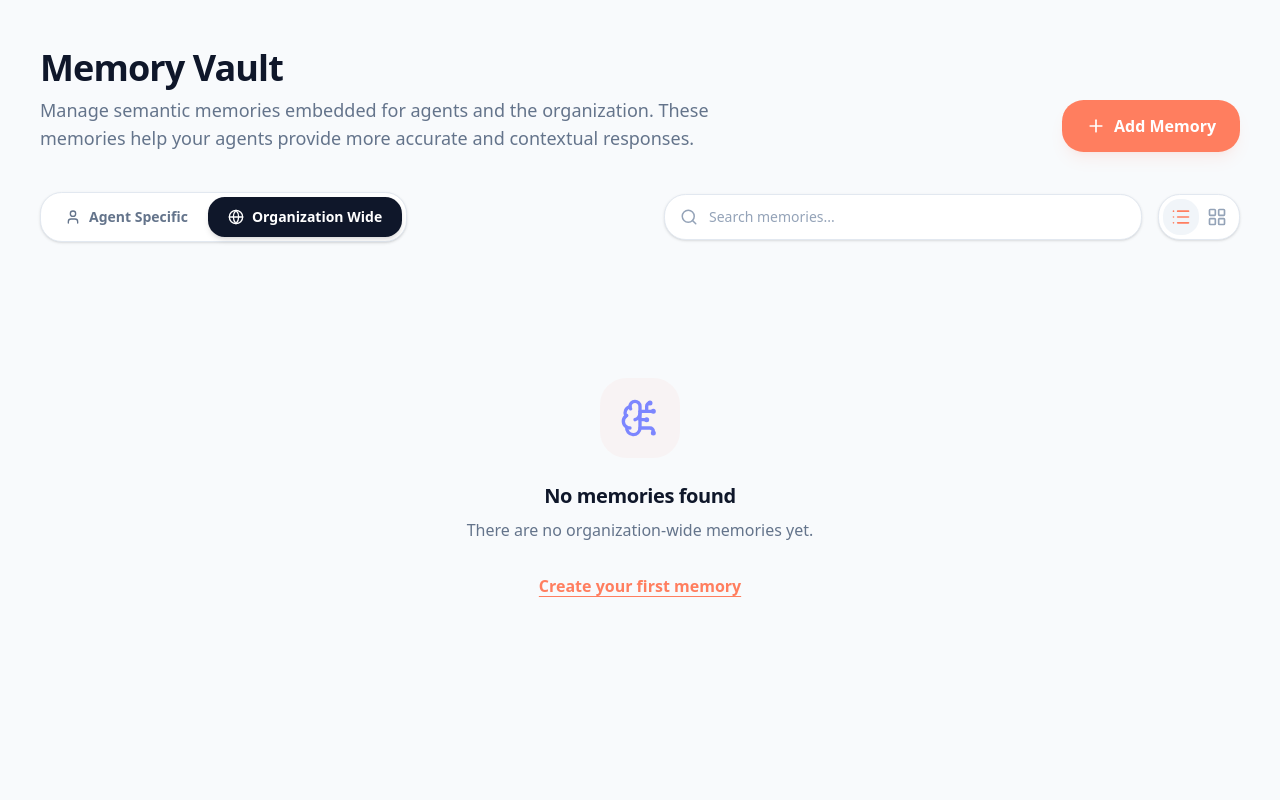
Scenario: the memory vault page › the empty state › opens the modal from that prompt
Click the button "Create your first memory": (640, 586) left=539, top=574, right=741, bottom=598
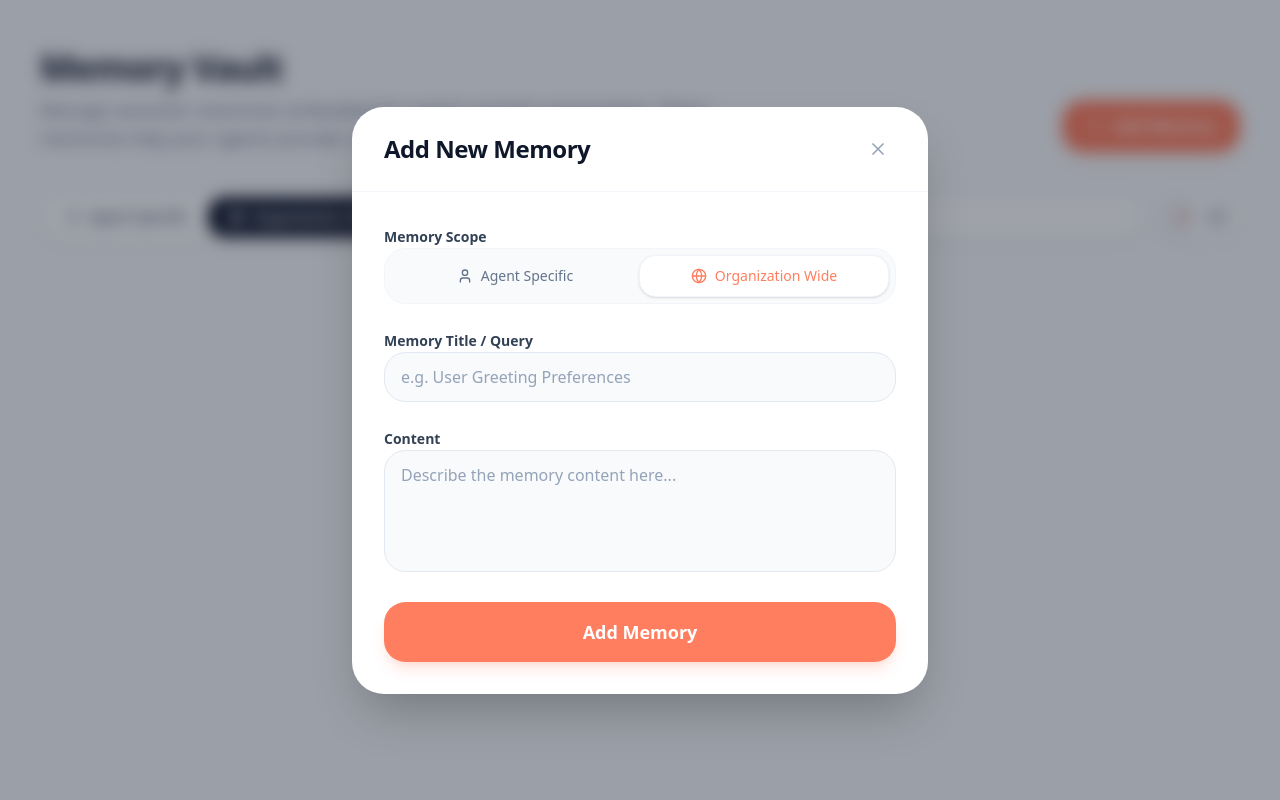
Check: the heading "Add New Memory" is shown, box left=384, top=132, right=590, bottom=164
